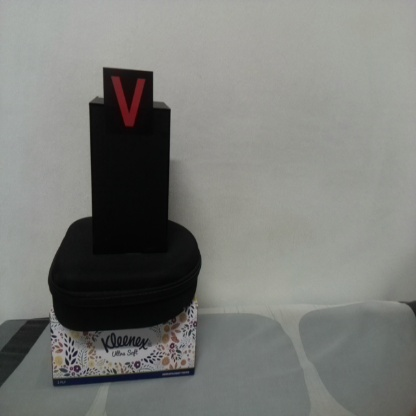id_11: (104, 69, 153, 141)
